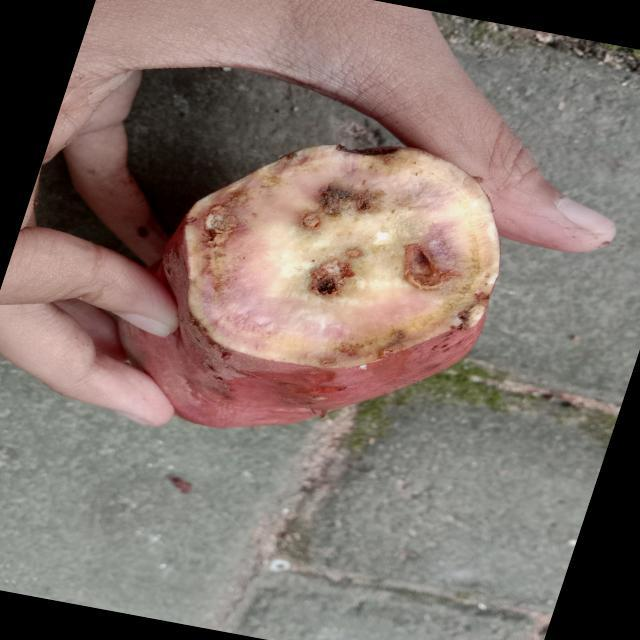Sick Sweet Potato_Tuber Rot: (165, 145, 500, 368)
